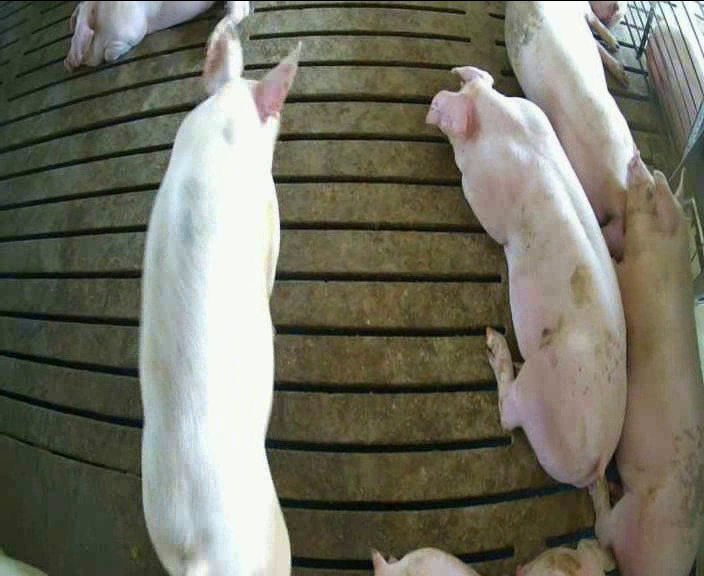pig: (140, 16, 298, 574), (426, 68, 624, 486), (588, 156, 703, 574), (505, 2, 636, 259)
